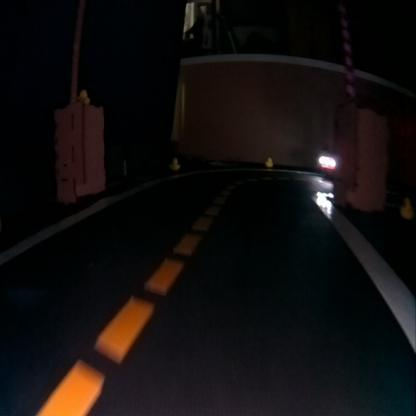Duckie: (401, 196, 413, 219), (169, 157, 179, 171), (80, 89, 90, 103), (264, 157, 272, 167)
Duckiebot: (318, 153, 337, 175)
